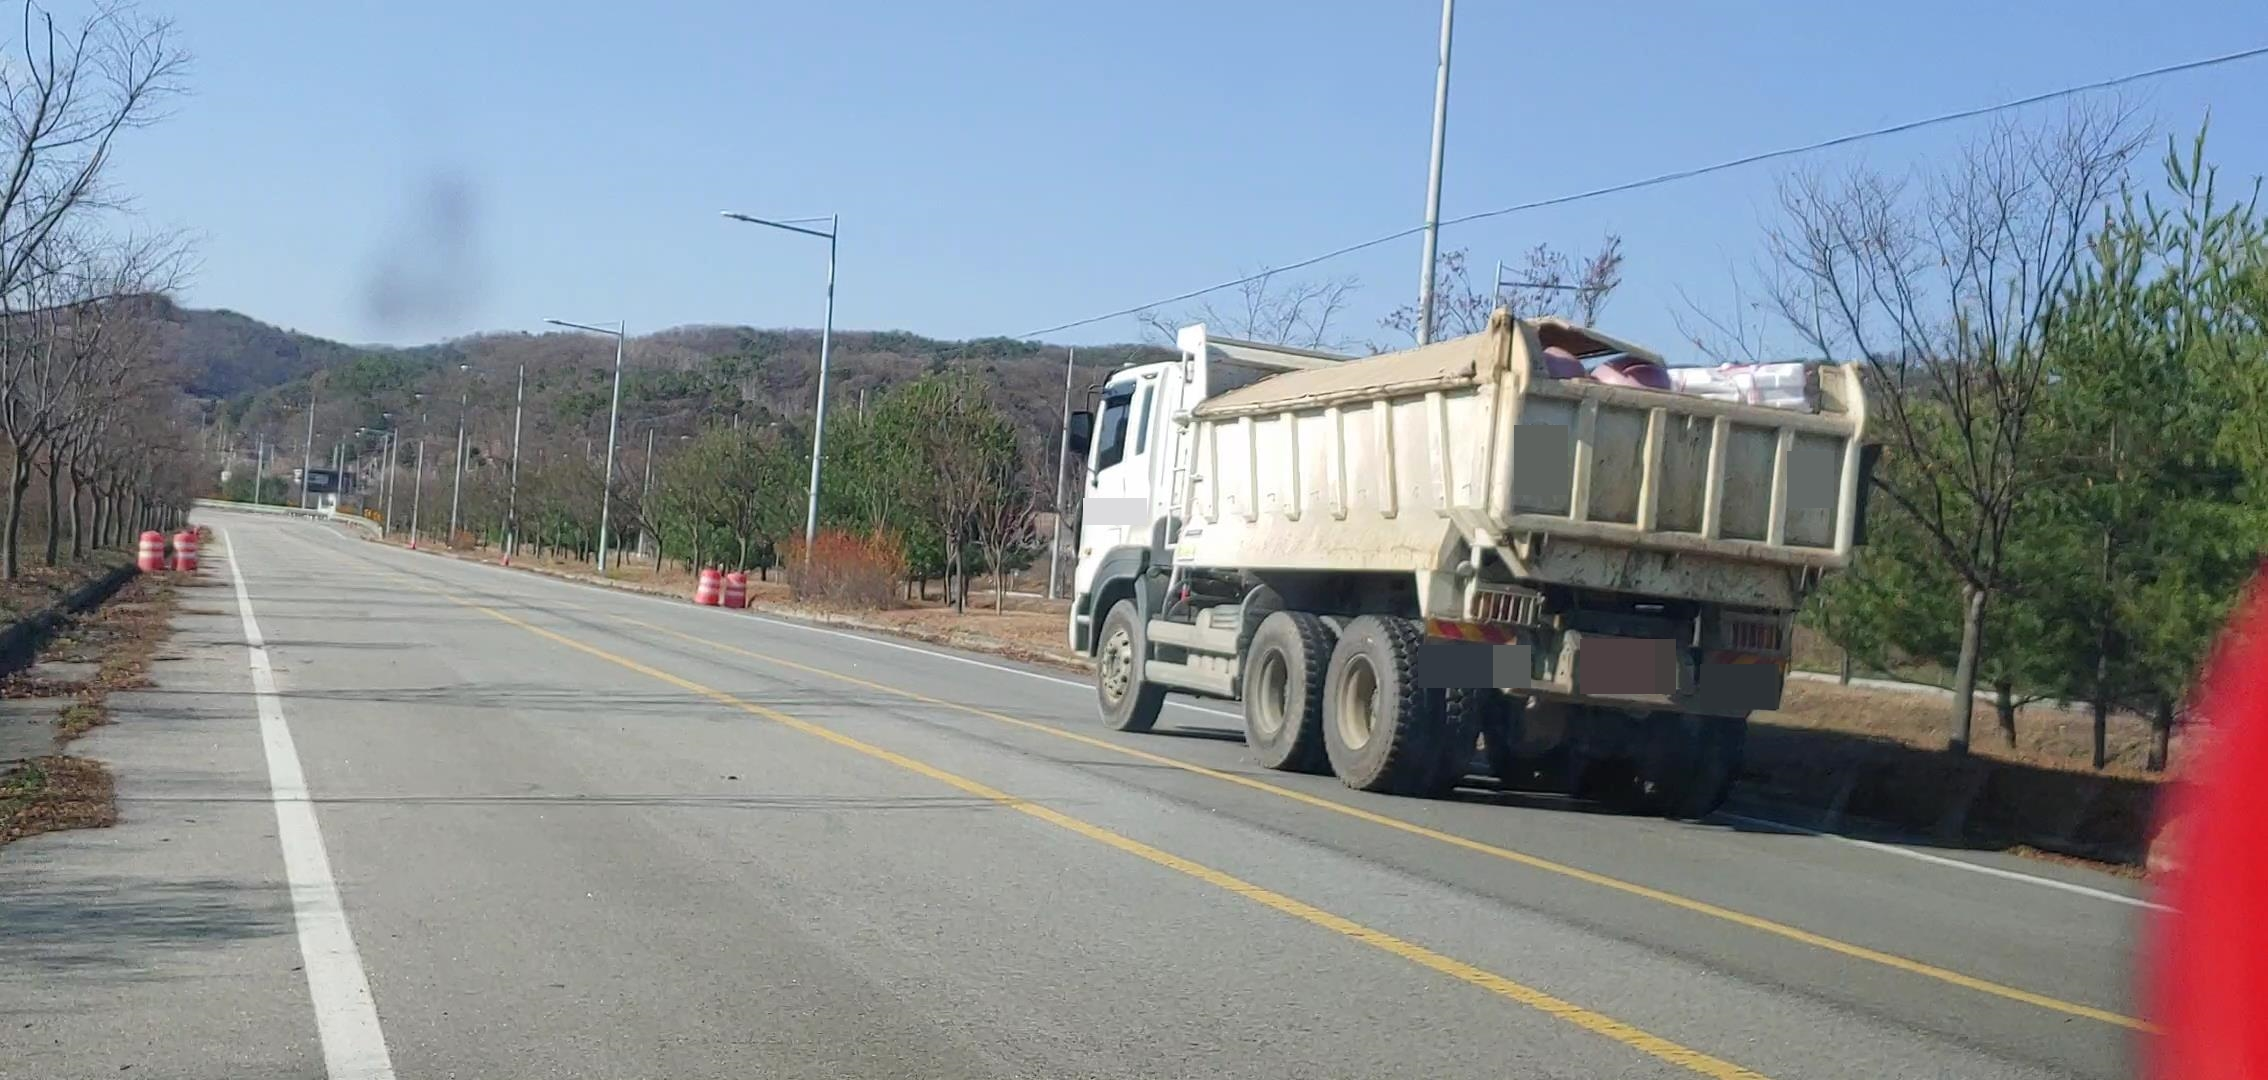불법차량: (1065, 305, 1885, 820)
